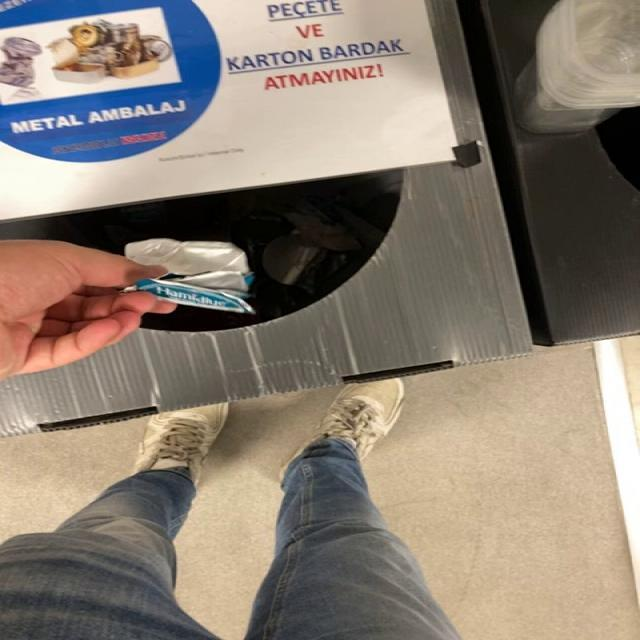Bin: (0, 0, 531, 436)
Metal: (124, 238, 255, 314)
